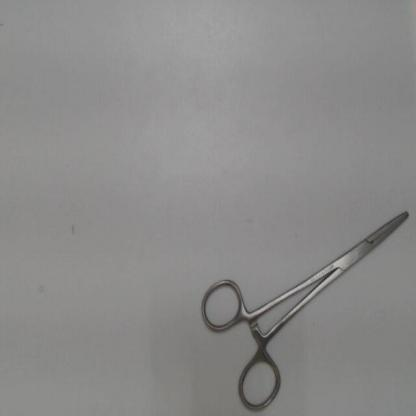Mayo Needle Holder: (192, 197, 413, 414)
